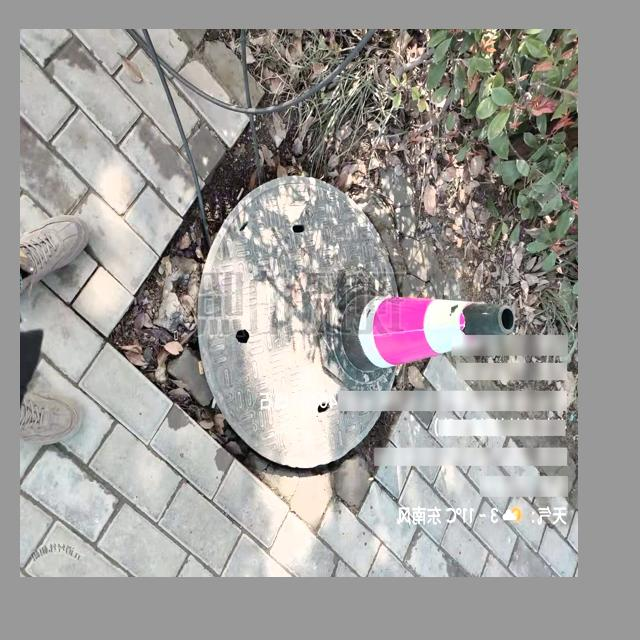broke: (196, 174, 406, 468)
